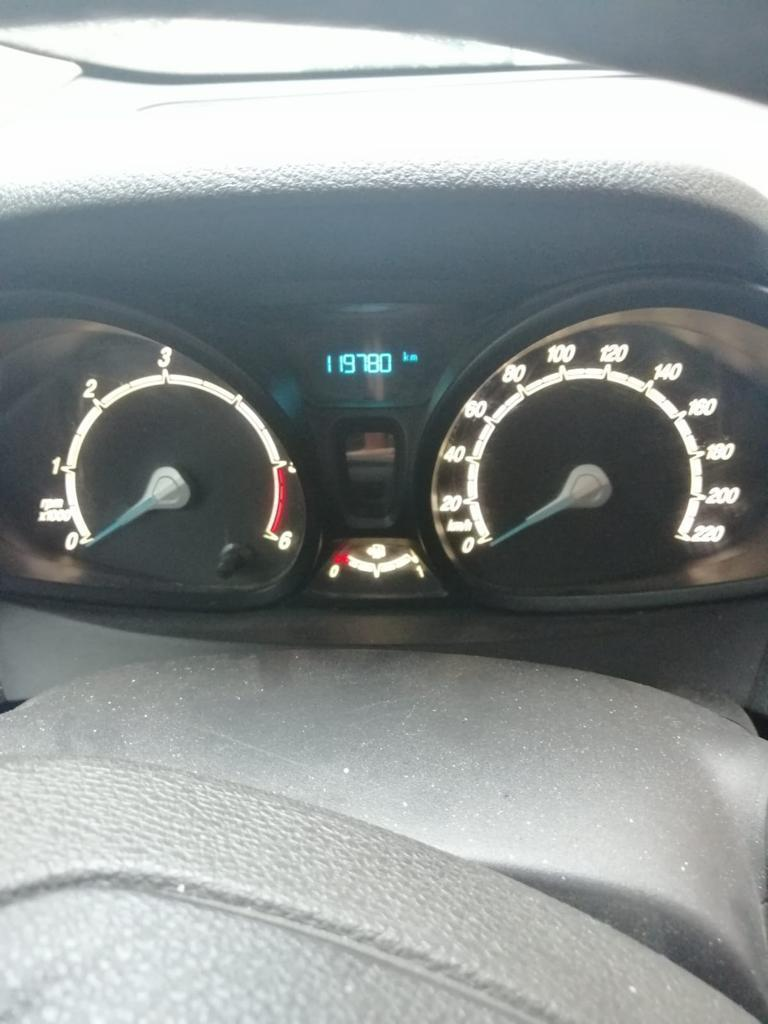0: (380, 352, 393, 374)
1: (324, 352, 332, 376), (337, 352, 343, 375)
7: (356, 352, 367, 374)
8: (368, 352, 379, 374)
9: (344, 352, 355, 375)
X: (402, 350, 409, 361), (410, 353, 417, 361)
odometer: (314, 341, 423, 383)
